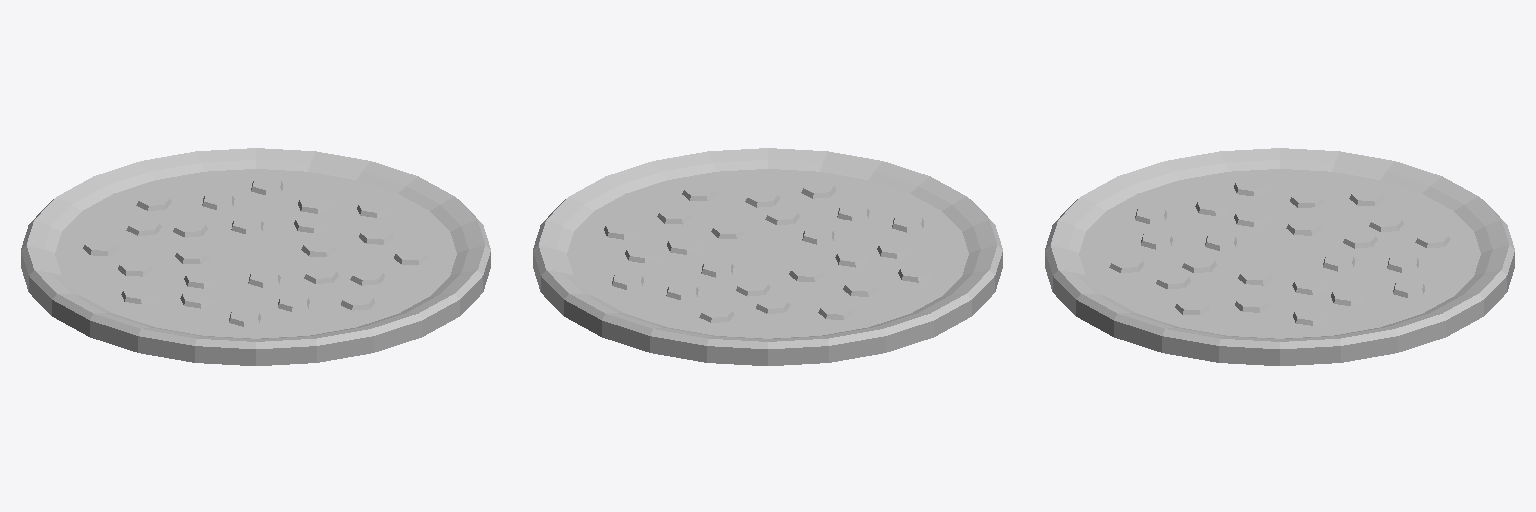
Rendered from pizza.obj.
3 views of the same model, side by side, from view 1: azimuth 30°, elevation 25°; view 2: azimuth 150°, elevation 25°; view 3: azimuth 270°, elevation 25° (orthographic).
Parts seen in each view (by area): view 1: slice7, slice8, slice6, slice3, slice4, slice2, slice1, slice5; view 2: slice2, slice1, slice3, slice6, slice5, slice8, slice7, slice4; view 3: slice4, slice5, slice6, slice3, slice8, slice1, slice2, slice7.
Part boxes in pixels (left/top/right/bottom): slice7: left=195, top=254, right=373, bottom=365; slice8: left=52, top=254, right=255, bottom=362; slice6: left=257, top=254, right=482, bottom=352; slice3: left=142, top=148, right=314, bottom=252; slice4: left=256, top=151, right=454, bottom=253; slice2: left=34, top=161, right=255, bottom=253; slice1: left=21, top=220, right=252, bottom=315; slice5: left=257, top=197, right=490, bottom=291; slice2: left=650, top=254, right=828, bottom=365; slice1: left=768, top=254, right=971, bottom=362; slice3: left=541, top=254, right=766, bottom=352; slice6: left=709, top=148, right=881, bottom=252; slice5: left=569, top=151, right=767, bottom=253; slice8: left=771, top=220, right=1002, bottom=315; slice7: left=768, top=161, right=989, bottom=253; slice4: left=533, top=197, right=766, bottom=291; slice4: left=1280, top=254, right=1445, bottom=365; slice5: left=1114, top=254, right=1279, bottom=365; slice6: left=1045, top=245, right=1277, bottom=336; slice3: left=1282, top=245, right=1514, bottom=336; slice8: left=1118, top=148, right=1279, bottom=253; slice1: left=1280, top=148, right=1441, bottom=253; slice2: left=1281, top=176, right=1514, bottom=253; slice7: left=1045, top=176, right=1278, bottom=253.
Size of the model in its own units: 0.8418 by 0.0435 by 0.8418.